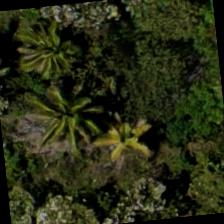Kelapa_Sawit: (78, 90, 177, 189), (5, 7, 104, 106), (23, 68, 122, 166)
